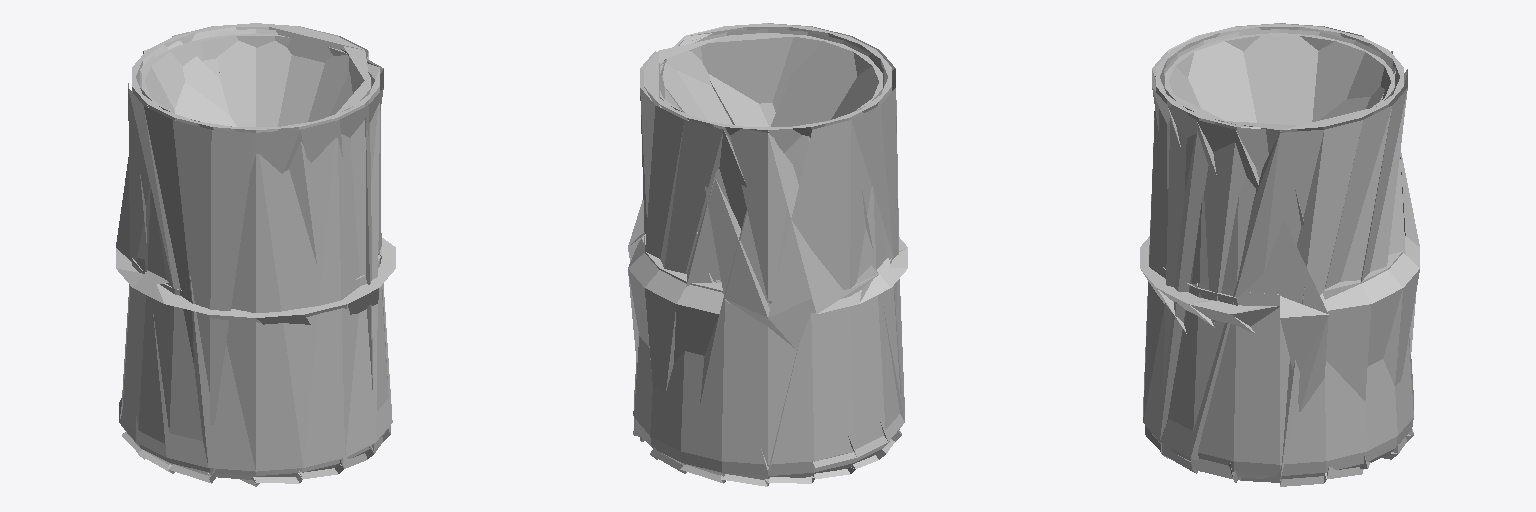
Rendered from Shot Of Vodka.obj.
3 views of the same model, side by side, from view 1: azimuth 30°, elevation 25°; view 2: azimuth 150°, elevation 25°; view 3: azimuth 270°, elevation 25° (orthographic).
Parts seen in each view (by area): view 1: Shot_glass, Vodka_in_a_shot_glass; view 2: Shot_glass, Vodka_in_a_shot_glass; view 3: Shot_glass, Vodka_in_a_shot_glass.
Part boxes in pixels (left/top/right/bottom): Shot_glass: left=116, top=23, right=395, bottom=486; Vodka_in_a_shot_glass: left=122, top=249, right=388, bottom=479; Shot_glass: left=628, top=23, right=907, bottom=486; Vodka_in_a_shot_glass: left=634, top=234, right=900, bottom=479; Shot_glass: left=1140, top=23, right=1419, bottom=486; Vodka_in_a_shot_glass: left=1152, top=251, right=1413, bottom=478.
Bounding box in the file's own units: 2.08 × 2.89 × 2.05.